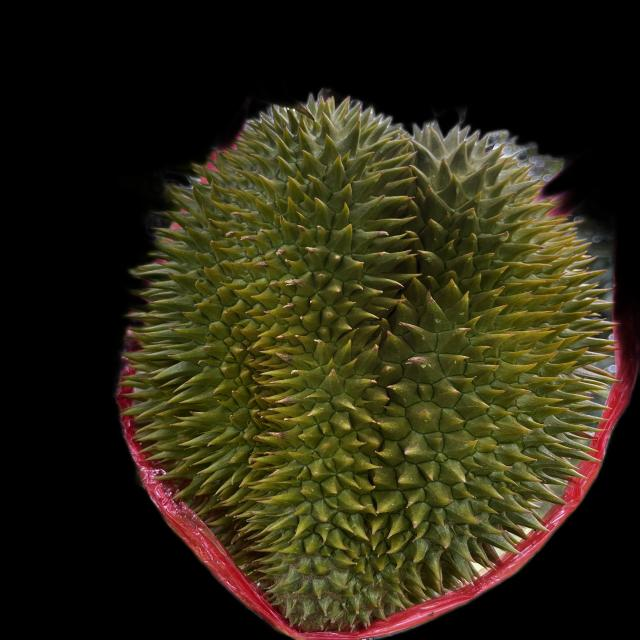immature: (125, 100, 612, 626)
